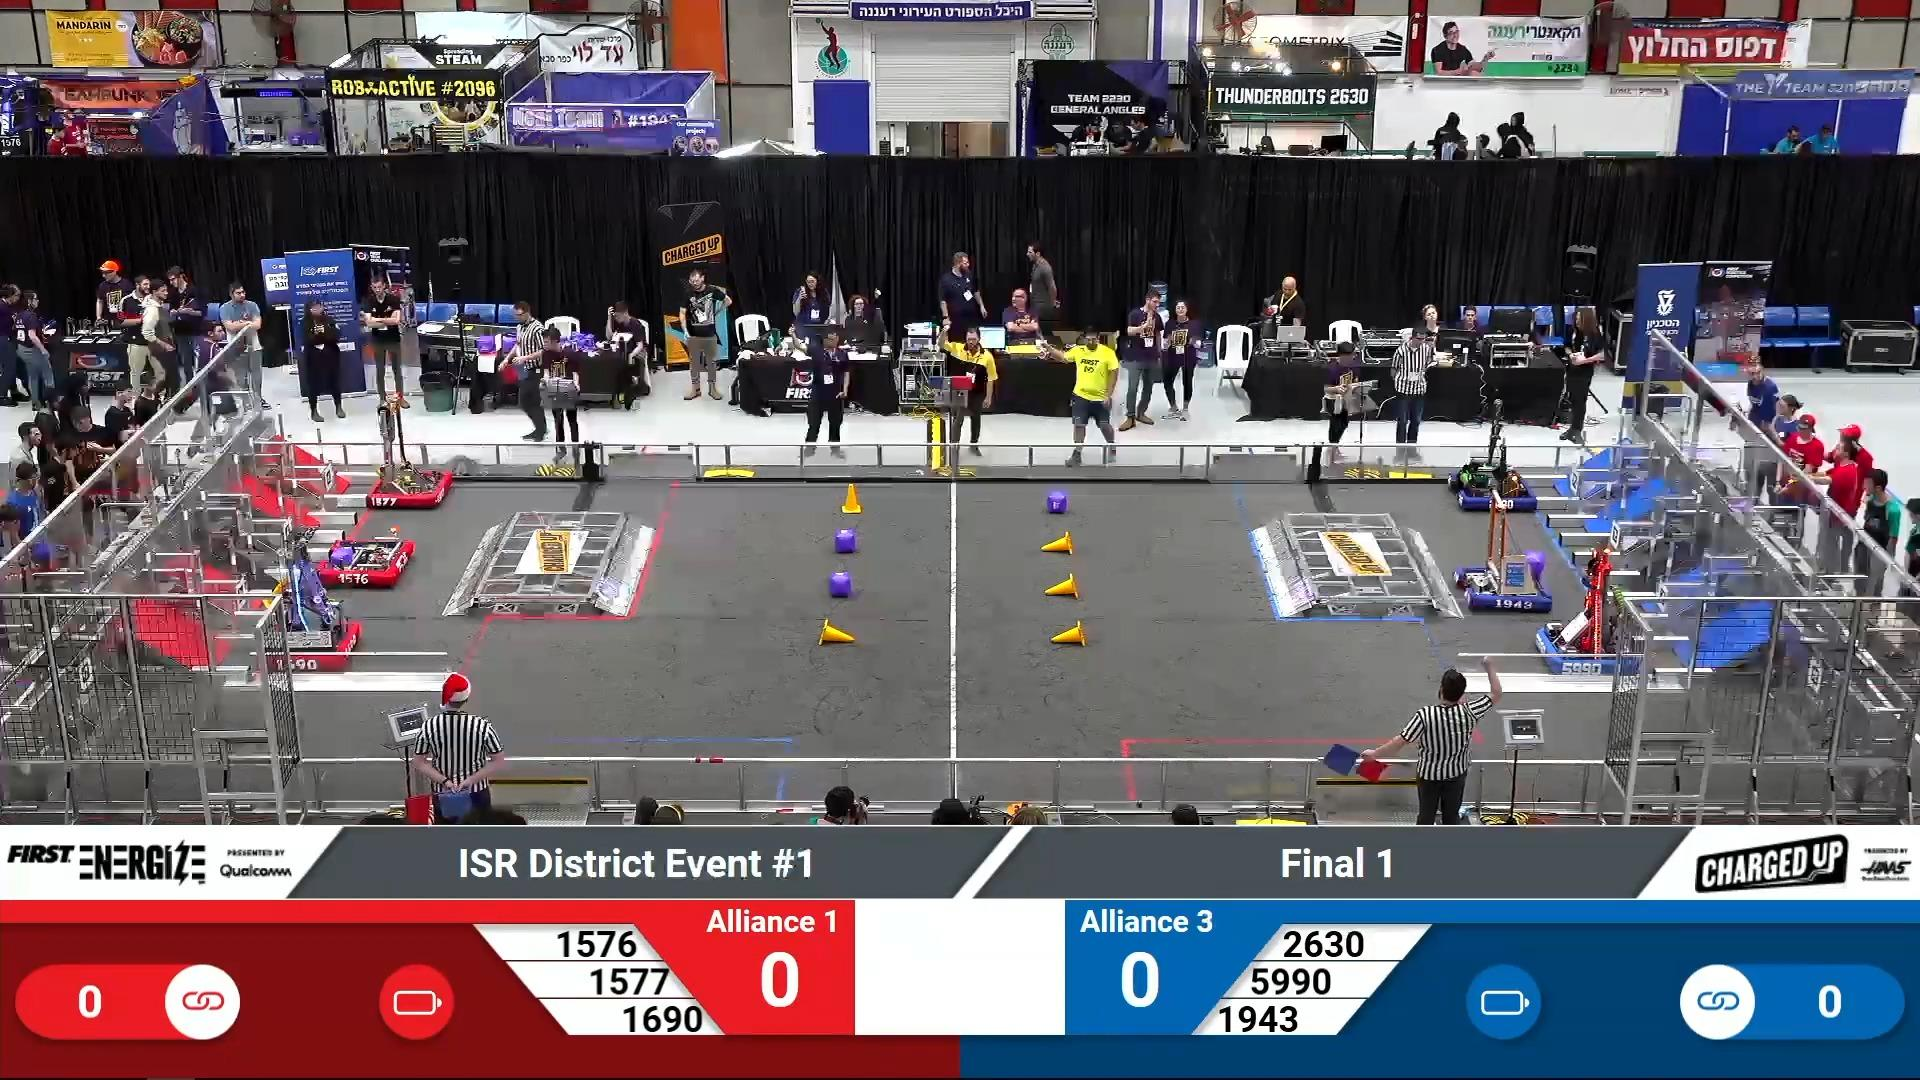robot: (257, 525, 364, 671), (1536, 543, 1642, 674), (1453, 485, 1549, 613), (367, 392, 454, 512), (1451, 397, 1539, 513), (316, 531, 414, 584)
